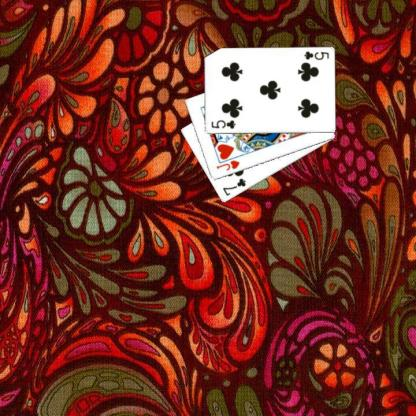5C: (301, 49, 329, 61), (209, 118, 236, 130)
7C: (220, 176, 247, 197)
JH: (214, 158, 241, 172)
